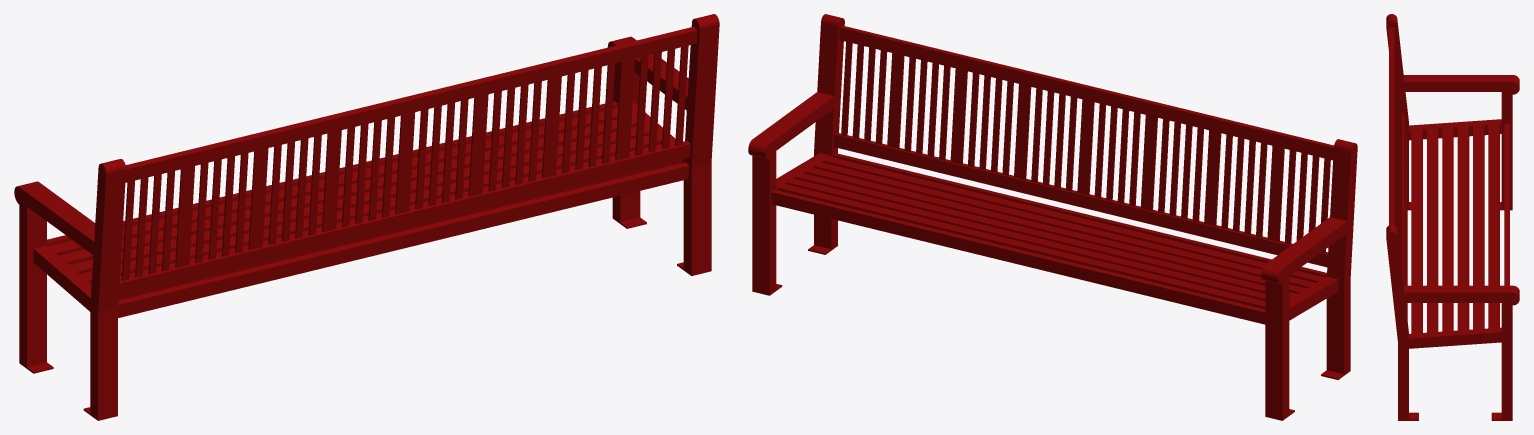
3 renders of one model, left to right at view 1: azimuth 30°, elevation 25°; view 2: azimuth 150°, elevation 25°; view 3: azimuth 270°, elevation 25°, orthographic. The views are drawn at different scales.
Visible parts, largest first — view 1: mesh1_mesh1-geometry; view 2: mesh1_mesh1-geometry; view 3: mesh1_mesh1-geometry.
Boxes of the visible parts, x1,y1,x2,y2 form: mesh1_mesh1-geometry: (14,14,719,420); mesh1_mesh1-geometry: (748,14,1357,420); mesh1_mesh1-geometry: (1386,14,1519,420).
Size of the model in its own units: 0.9013 by 0.3648 by 0.2337.
